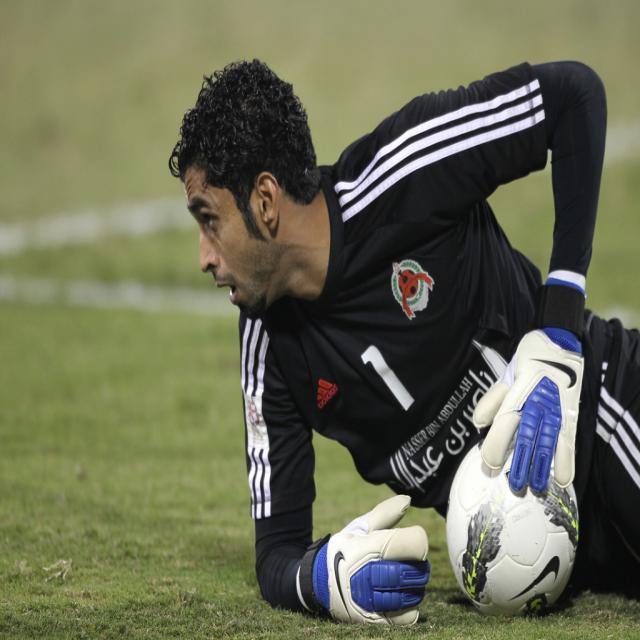football: (434, 435, 585, 609)
